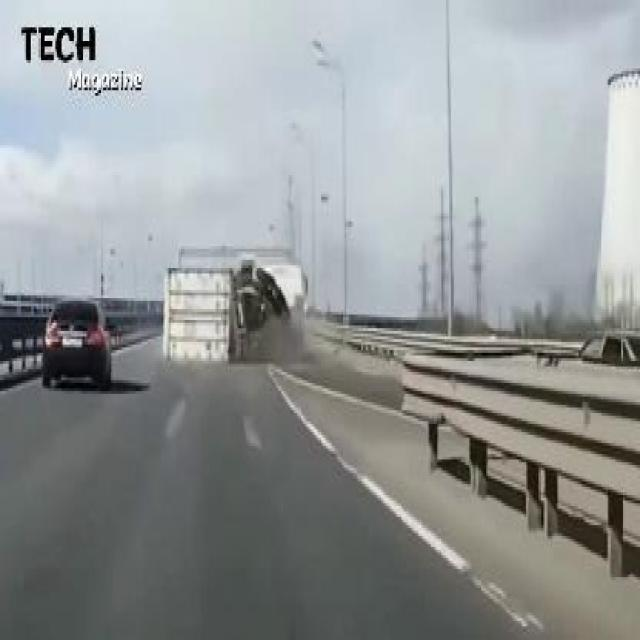accident: (160, 249, 300, 369)
